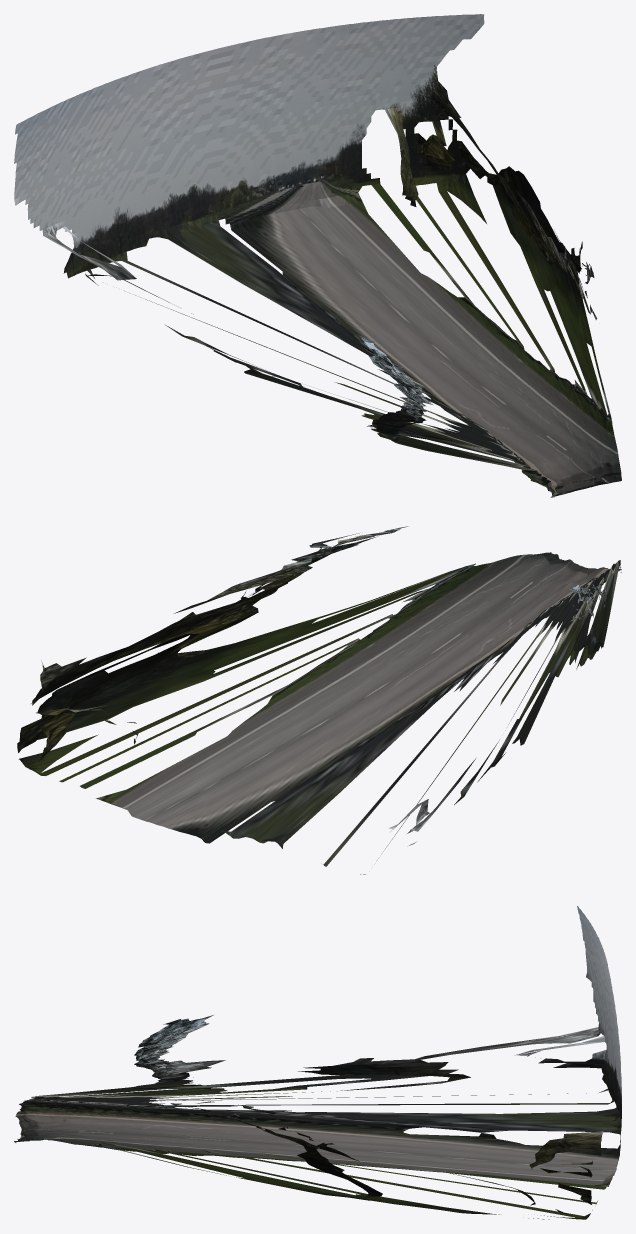
3 renders of one model, top to bottom at view 1: azimuth 30°, elevation 25°; view 2: azimuth 150°, elevation 25°; view 3: azimuth 270°, elevation 25°, orthographic. The views are drawn at different scales.
Parts seen in each view (by area): view 1: defaultobject; view 2: defaultobject; view 3: defaultobject.
Part boxes in pixels (x1,y1,x2,y2): defaultobject: (14,14,621,497); defaultobject: (17,526,621,874); defaultobject: (14,906,621,1219).
Bounding box in the file's own units: 32.09 × 12.74 × 44.61.
Materials: 1 (1 with a texture image).
